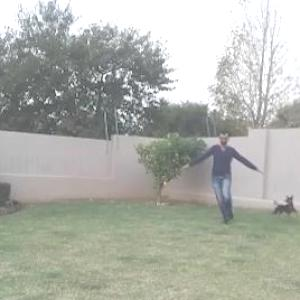land: (169, 122, 255, 224)
